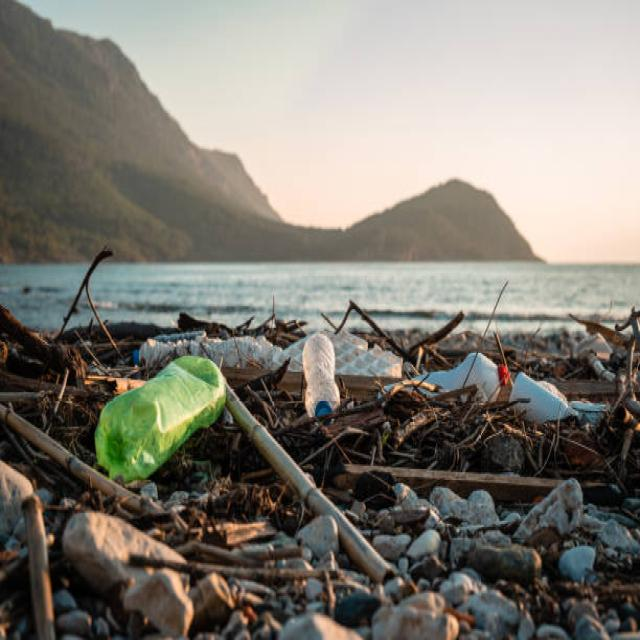plastic: (95, 361, 223, 488), (134, 322, 276, 370), (301, 338, 355, 420)
